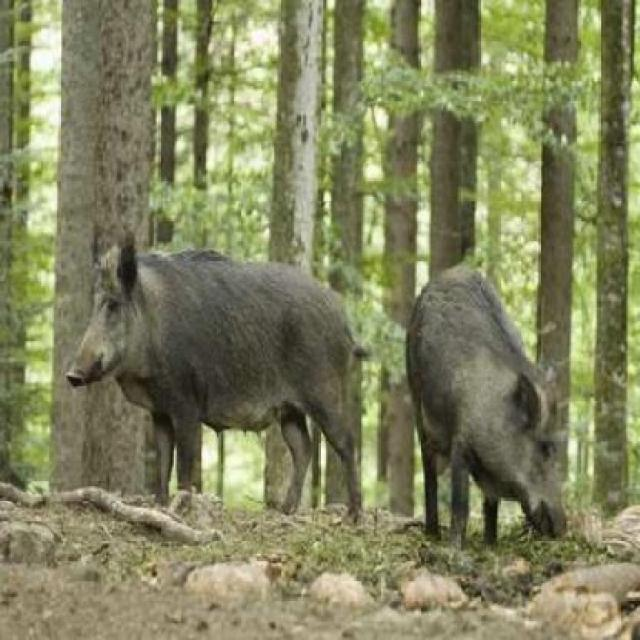Boar: (2, 250, 389, 592), (352, 234, 606, 541)
